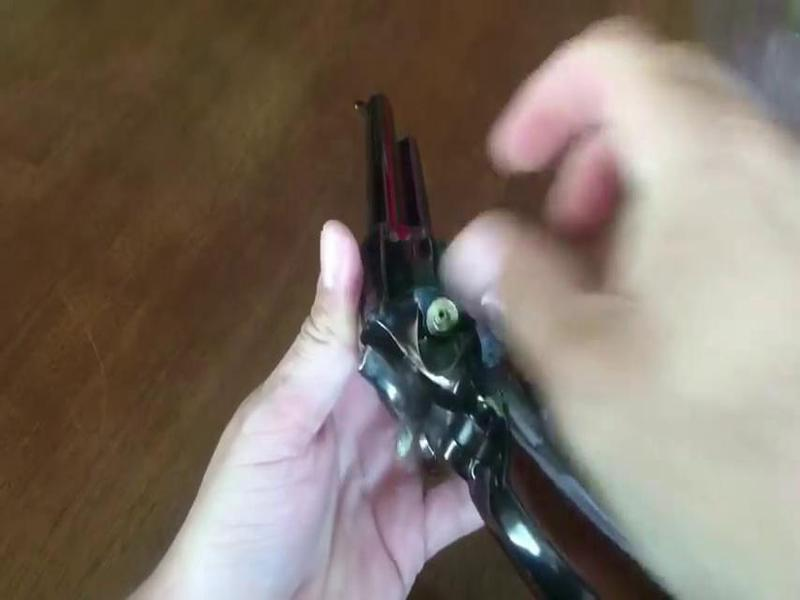Revolver: (318, 77, 586, 580)
